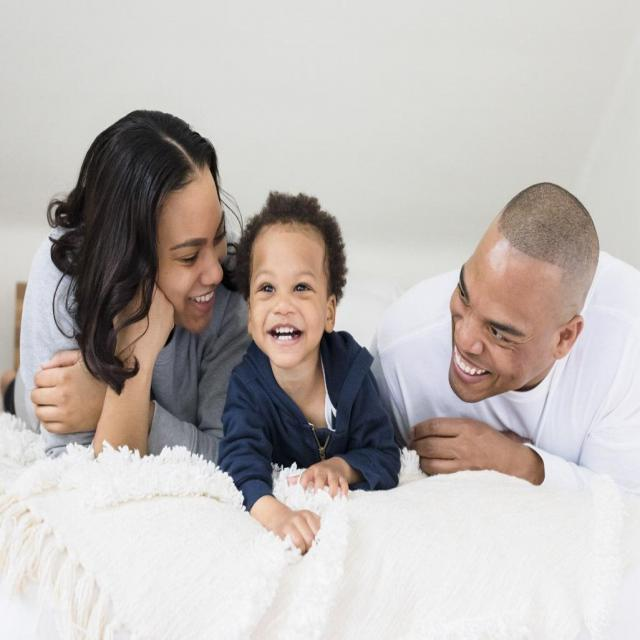child: (222, 185, 406, 567)
